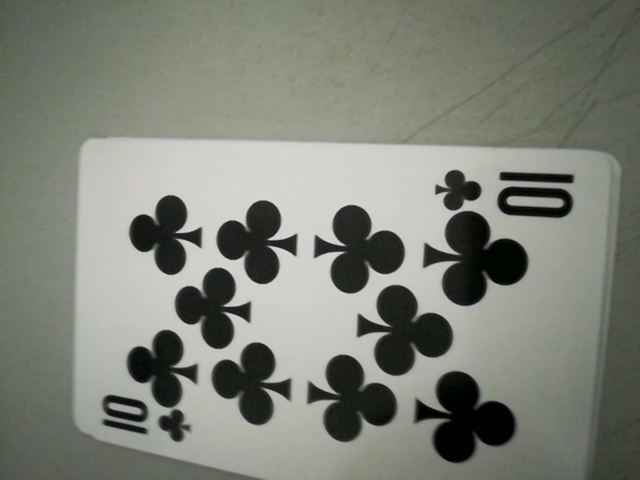mh 10: (433, 162, 582, 218), (94, 395, 194, 451)
